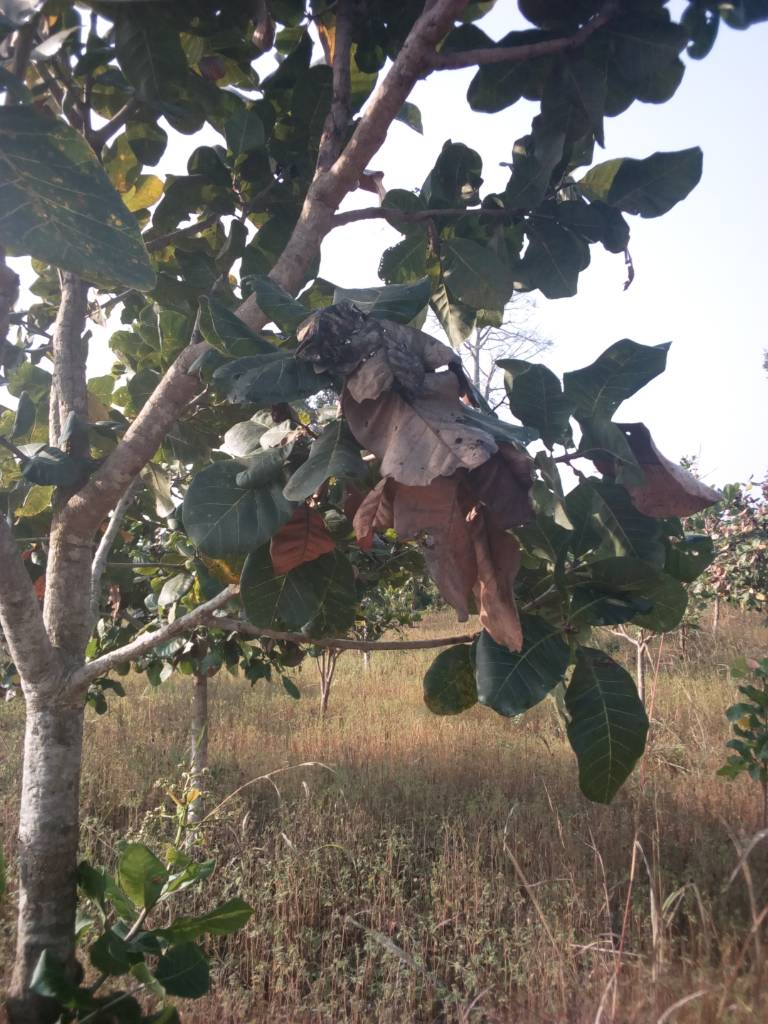Die-black: (332, 388, 516, 492), (302, 296, 469, 407), (382, 474, 488, 641), (602, 422, 736, 541), (460, 524, 546, 655), (258, 494, 350, 588)
